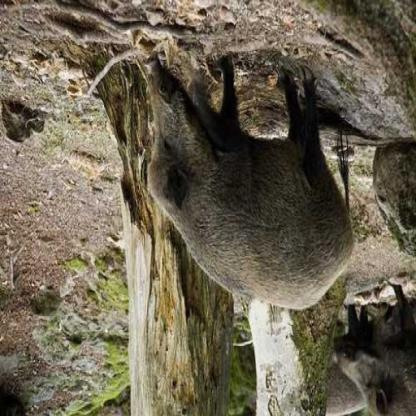boar: (125, 30, 368, 342)
